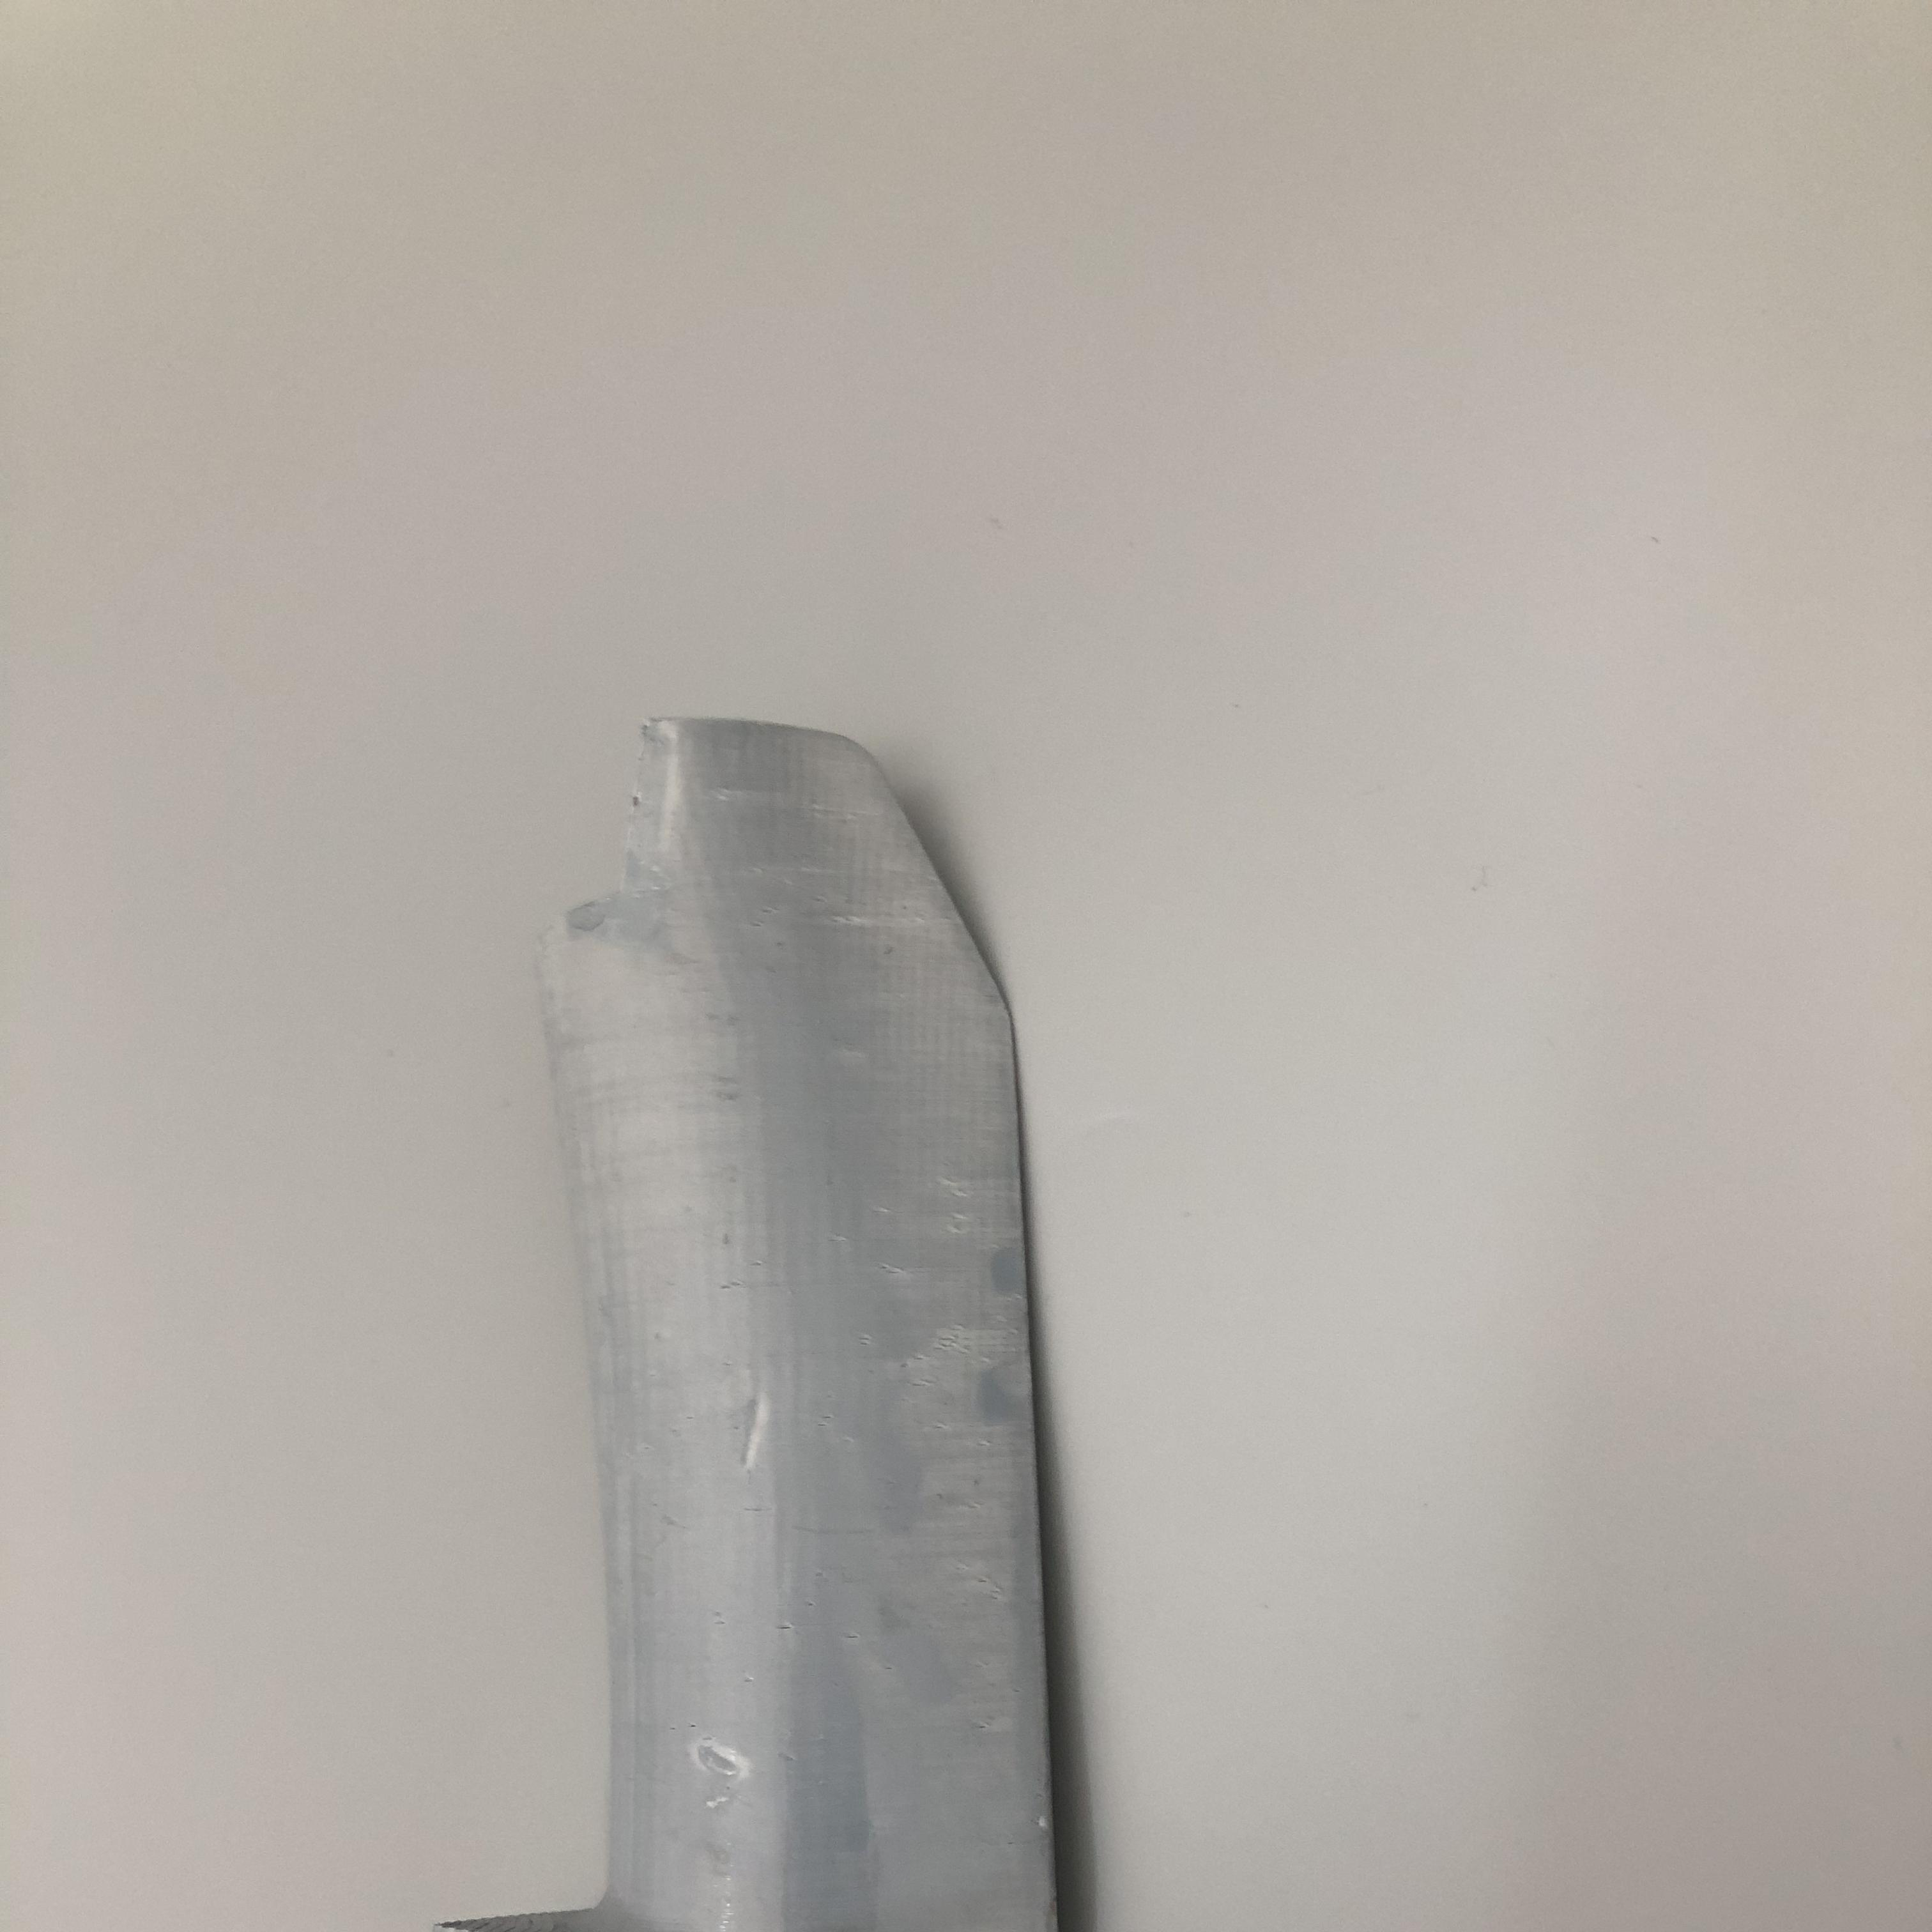fracture: (563, 725, 701, 961)
